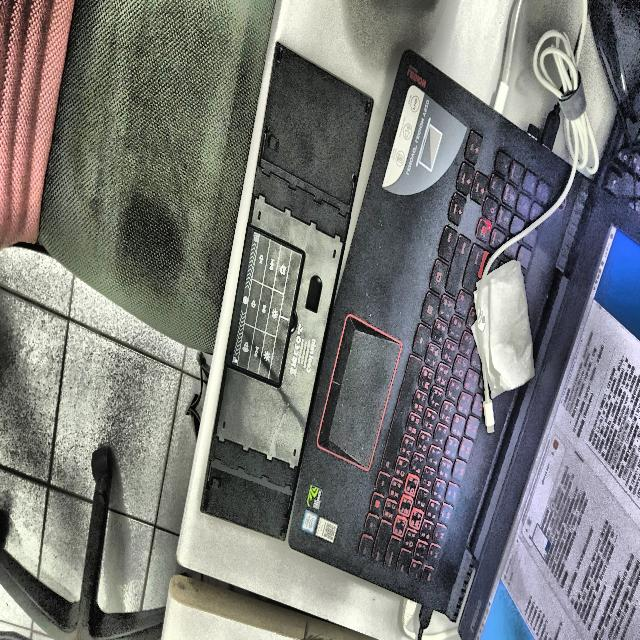laptop: (288, 51, 640, 640)
